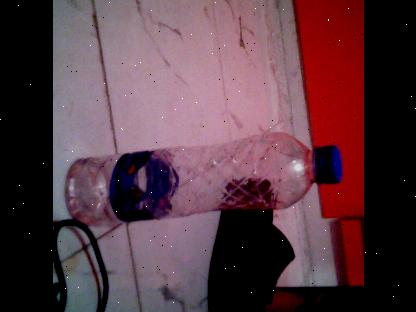Plastic Bottle: (64, 132, 342, 228)
